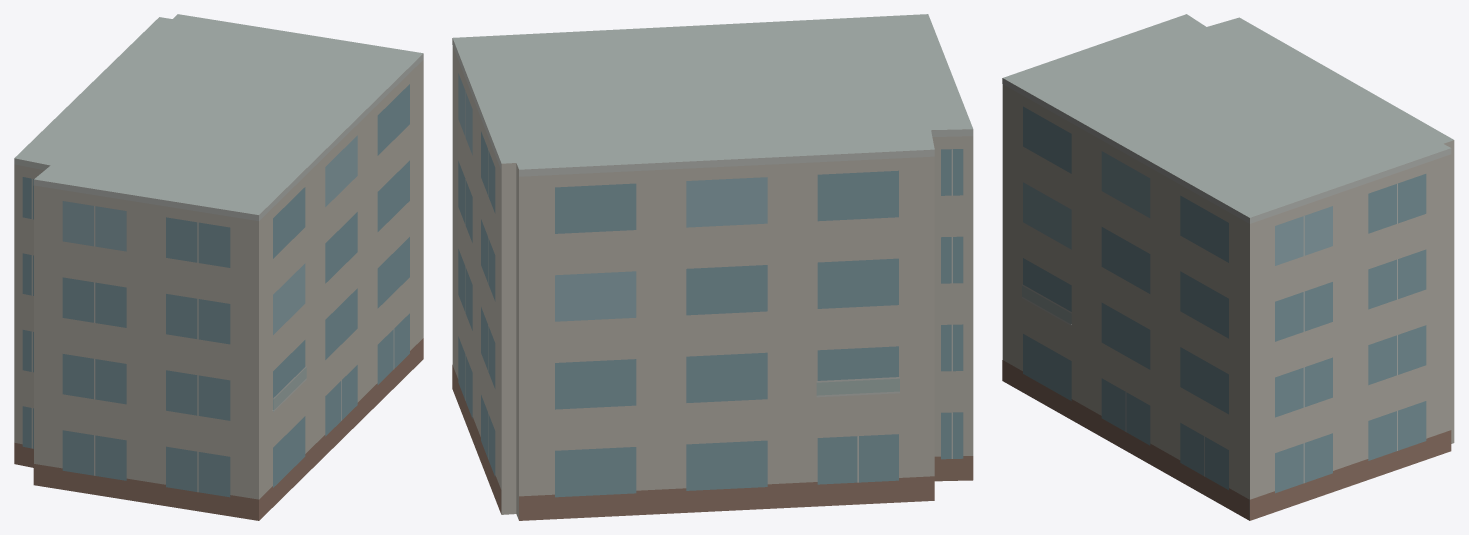
Rendered from survey-upis-32774499.glb.
3 renders of one model, left to right at view 1: azimuth 30°, elevation 25°; view 2: azimuth 150°, elevation 25°; view 3: azimuth 270°, elevation 25°, orthographic. The views are drawn at different scales.
Visible parts, largest first — view 1: survey-upis-32774499.tmp; view 2: survey-upis-32774499.tmp; view 3: survey-upis-32774499.tmp.
Part boxes in pixels (<box>): survey-upis-32774499.tmp: <box>14,14,423,520</box>; survey-upis-32774499.tmp: <box>452,14,973,520</box>; survey-upis-32774499.tmp: <box>1002,14,1454,520</box>.
Bounding box in the file's own units: 17.62 × 12.2 × 16.5.
